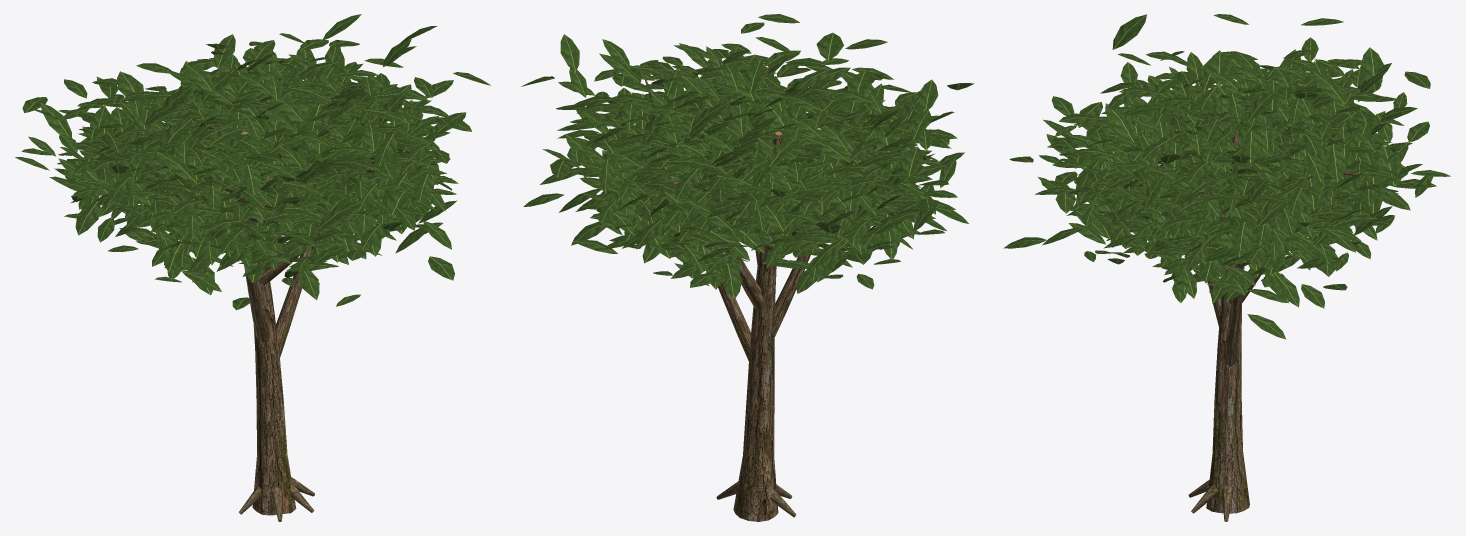
The model's file is juvenile-2.obj.
The picture shows the model from 3 angles, left to right: view 1: azimuth 30°, elevation 25°; view 2: azimuth 150°, elevation 25°; view 3: azimuth 270°, elevation 25°; orthographic projection. The views are drawn at different scales.
Bounding box in the file's own units: 6.65 × 6.53 × 6.07.
1 material, 1 textured.
